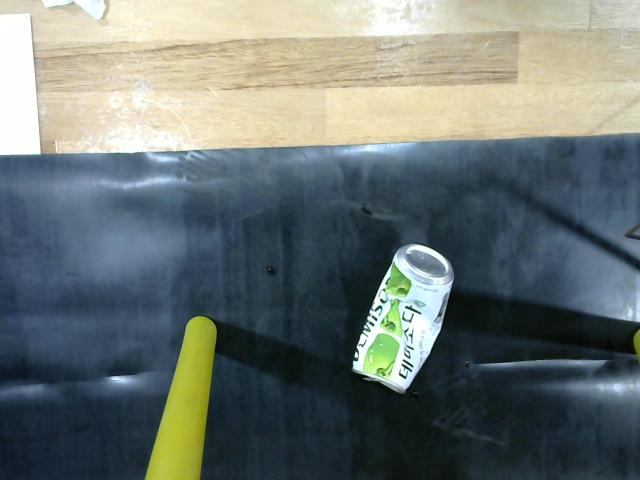can: (340, 236, 472, 404)
